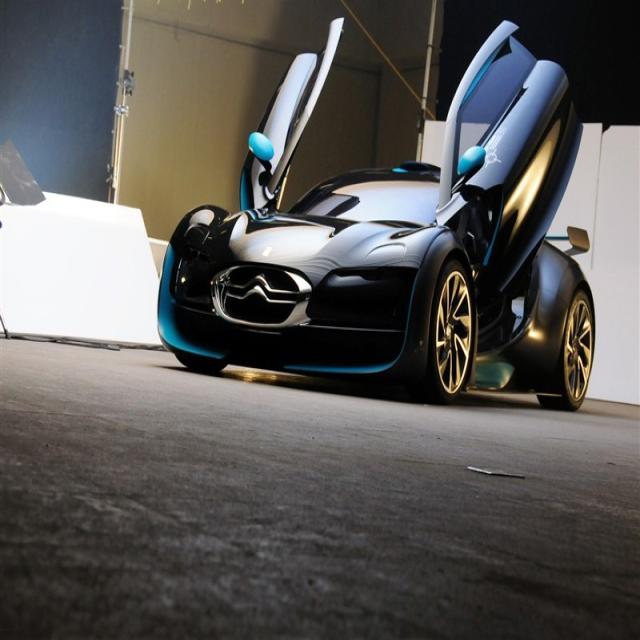front_bumper: (158, 254, 416, 378)
front_glass: (288, 176, 442, 224)
front_left_side_door: (435, 13, 584, 294)
front_left_side_light: (360, 242, 407, 268)
front_left_side_mirror: (451, 142, 486, 194)
front_right_side_door: (238, 12, 348, 214)
front_right_side_light: (182, 221, 212, 251)
front_right_side_mirror: (246, 129, 274, 167)
wheel: (540, 292, 594, 404), (426, 266, 472, 388)
